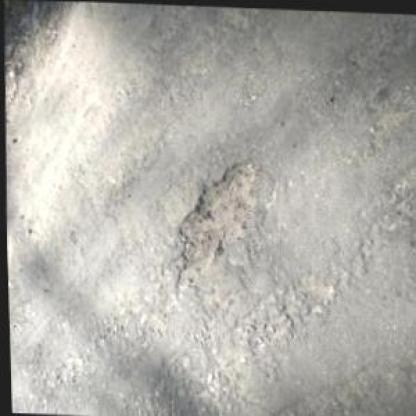pothole: (168, 152, 258, 290)
